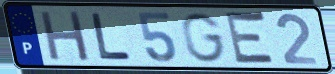2: (274, 11, 322, 67)
5: (135, 10, 178, 64)
E: (224, 8, 279, 68)
G: (179, 11, 228, 64)
H: (38, 9, 92, 63)
L: (89, 12, 135, 62)
